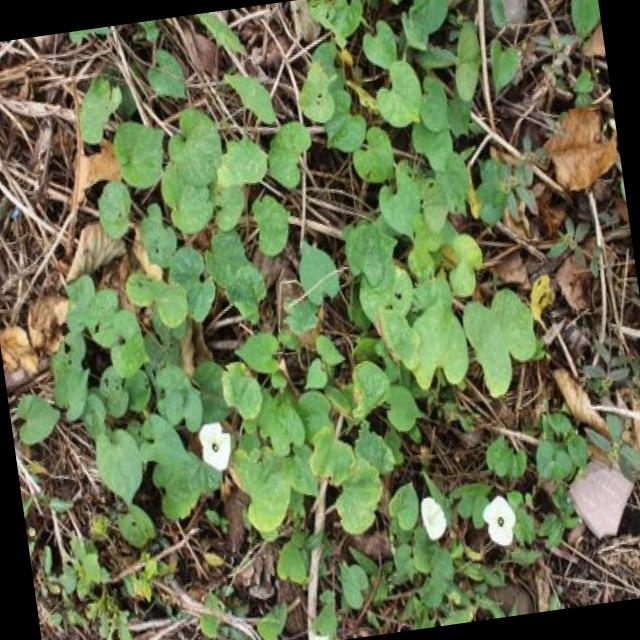ipomoea: (192, 416, 239, 482), (476, 490, 522, 554), (414, 490, 454, 549)
